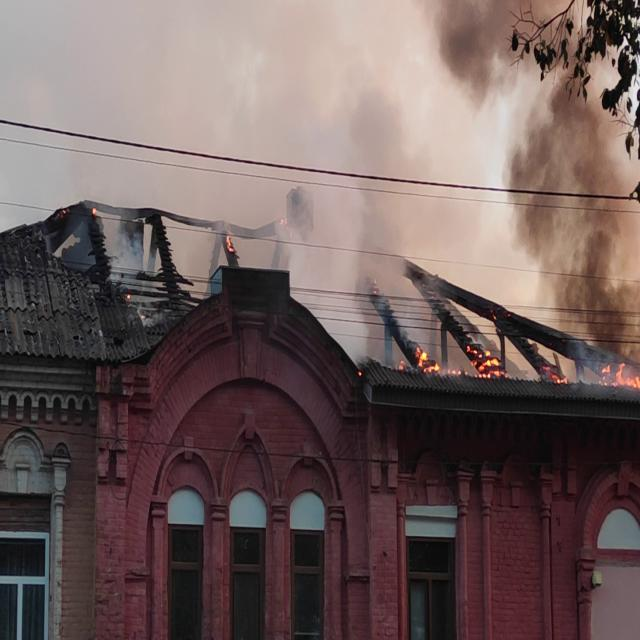fire: (595, 365, 640, 400), (467, 344, 504, 380), (414, 346, 441, 376)
smoke: (529, 155, 622, 279), (416, 15, 500, 126), (316, 208, 359, 321)
